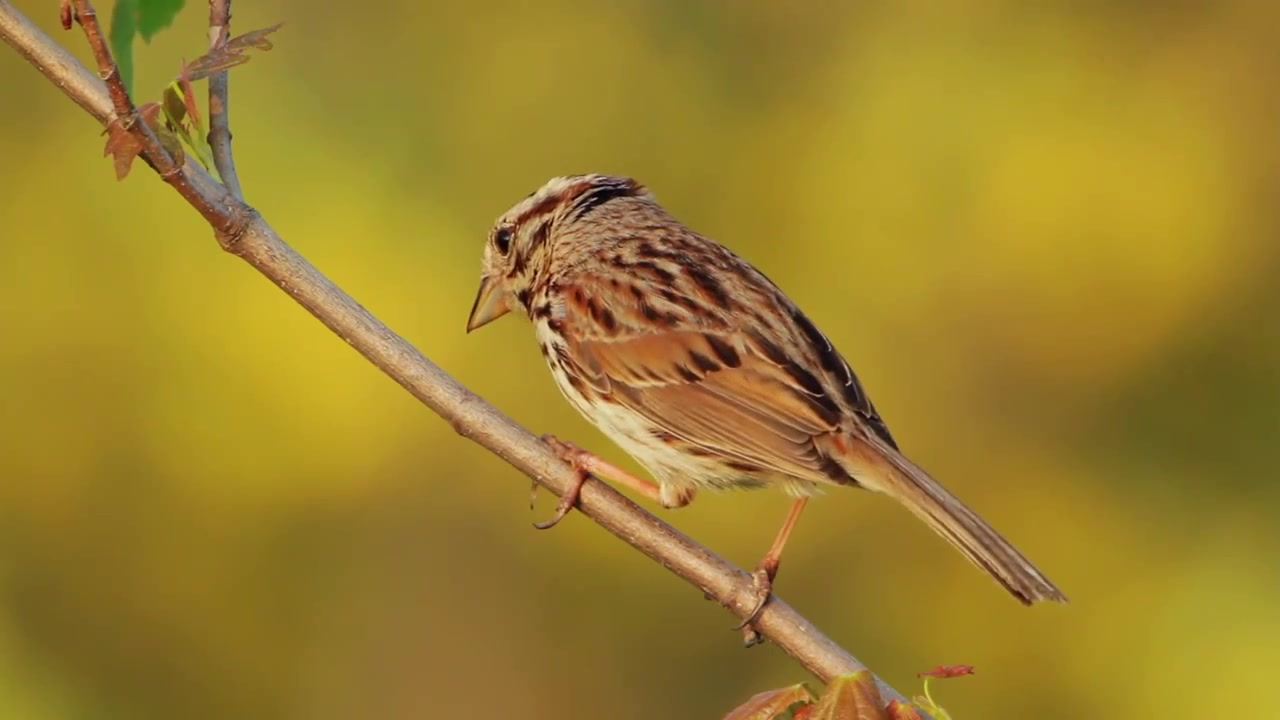bird: (465, 172, 1068, 652)
